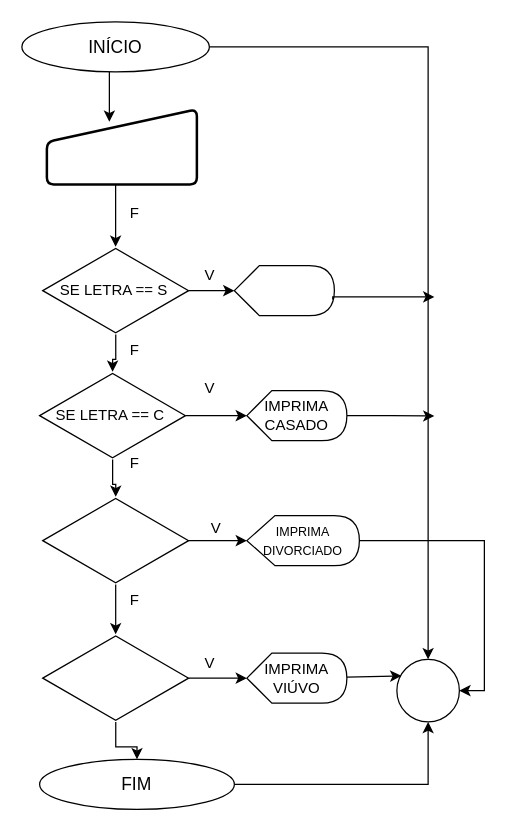
The diagram is 516 pixels wide and 831 high, and some of its shapes have lost their labels. Each missing label, with the centre of its shape:
"IMPRIMA SOLTEIRO" belongs at point 283,290.
"LEITURA VARIÁVEL LETRA" belongs at point 121,146.
"SE LETRA == D" belongs at point 115,540.
"SE LETRA == V" belongs at point 115,677.
